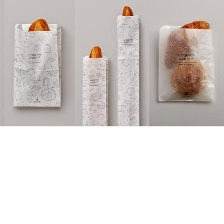snack: (152, 21, 220, 105), (8, 18, 68, 112), (113, 12, 144, 126), (77, 52, 113, 125)
